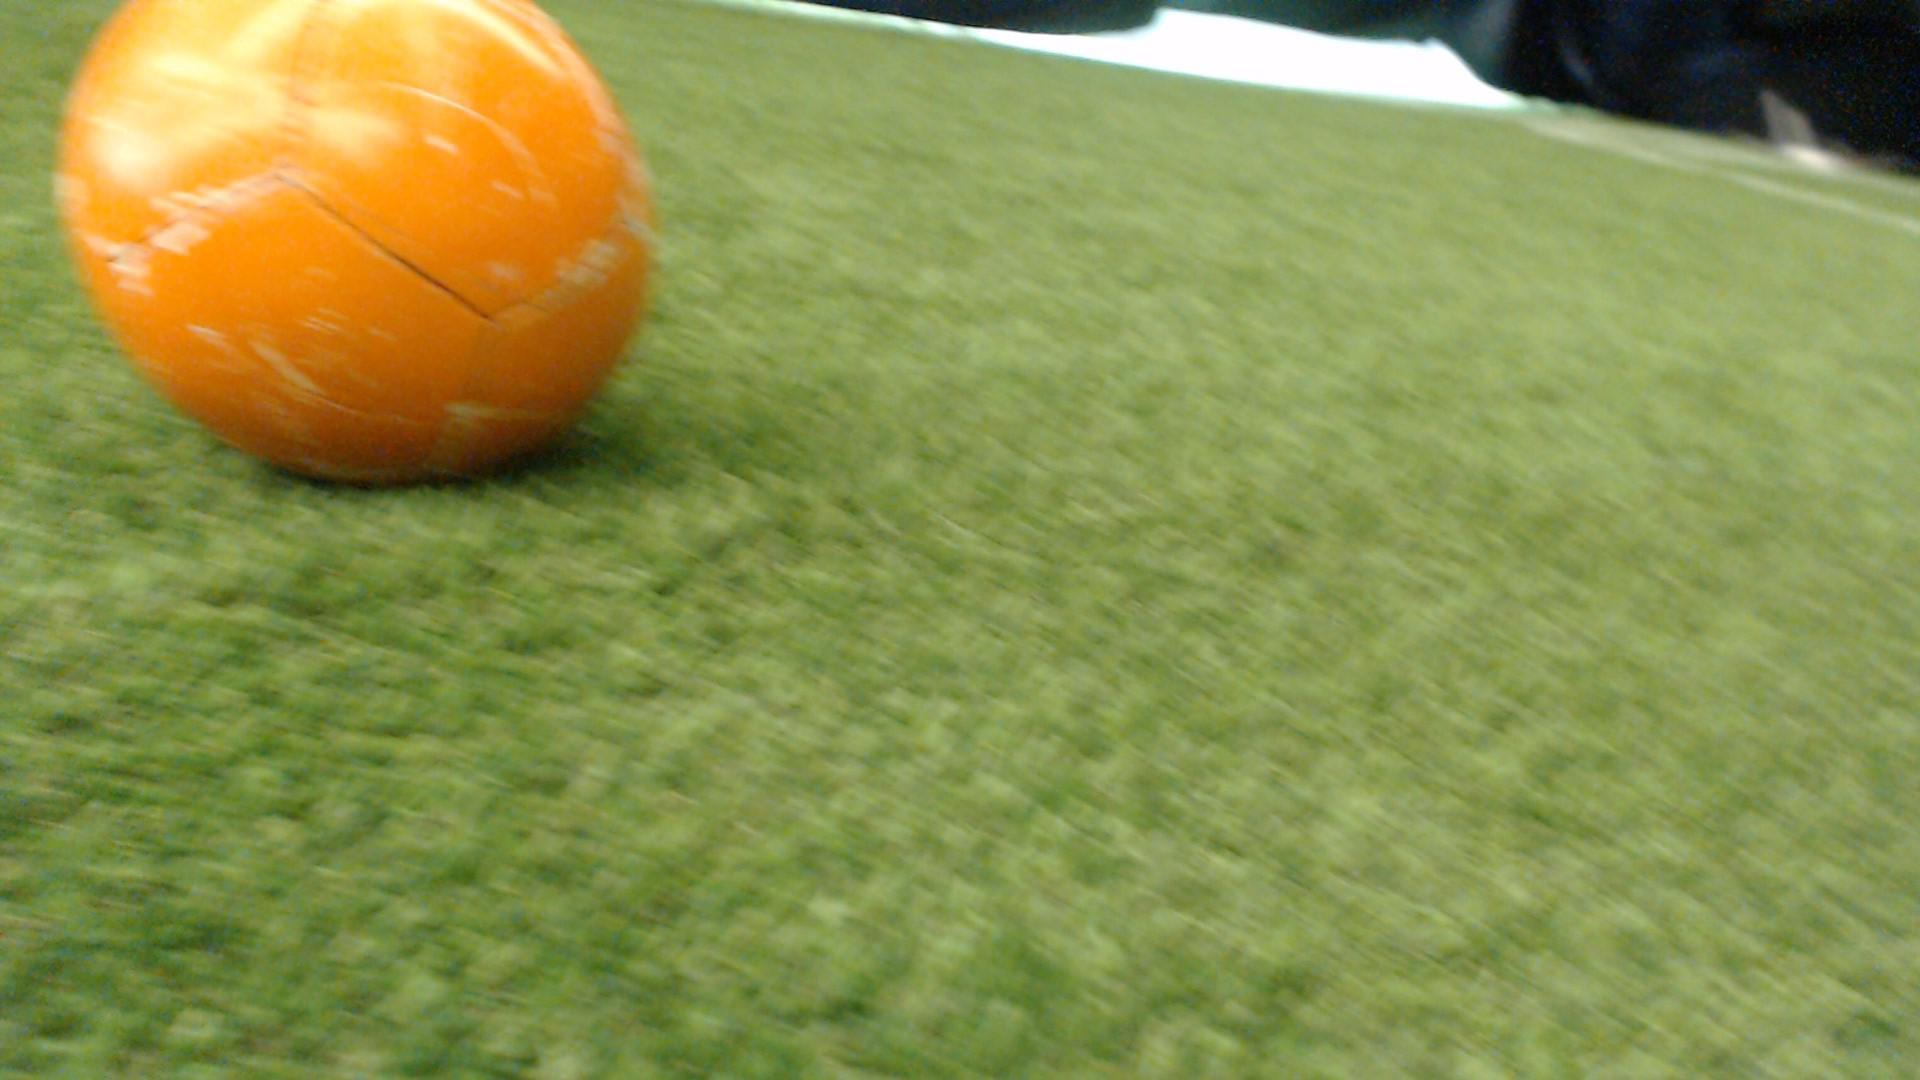bola: (34, 3, 699, 510)
